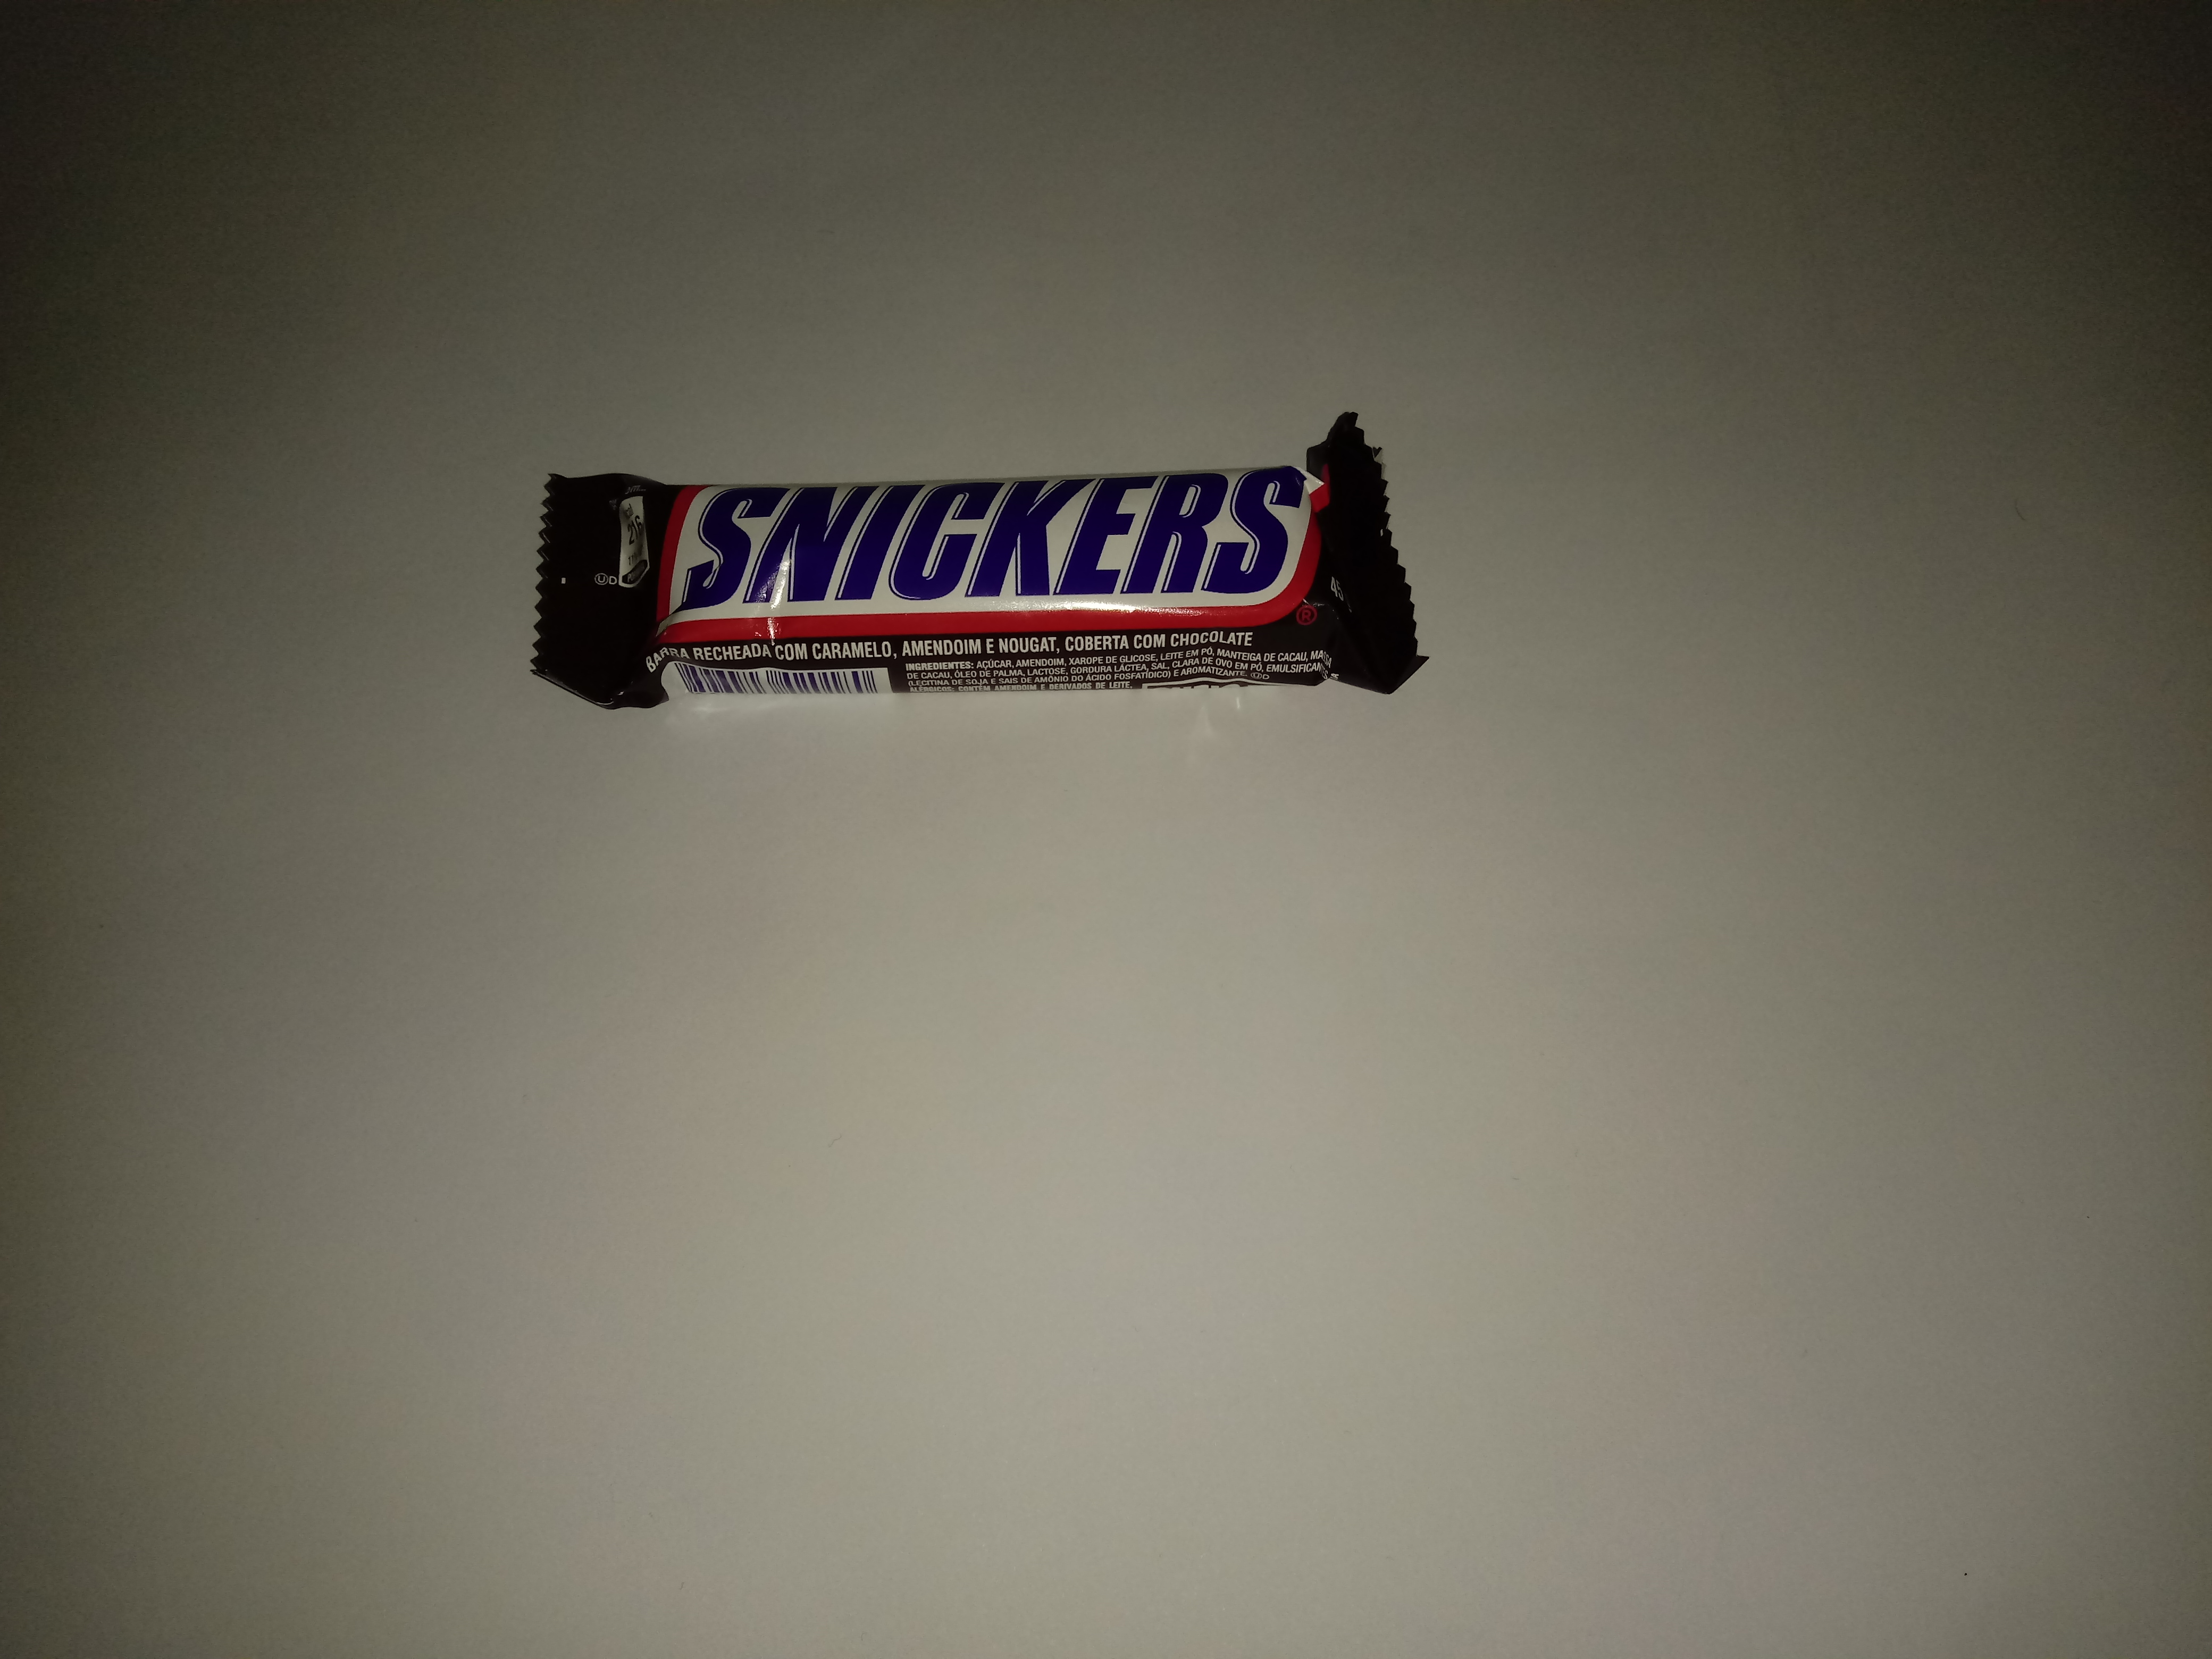snickers: (498, 403, 1451, 727)
